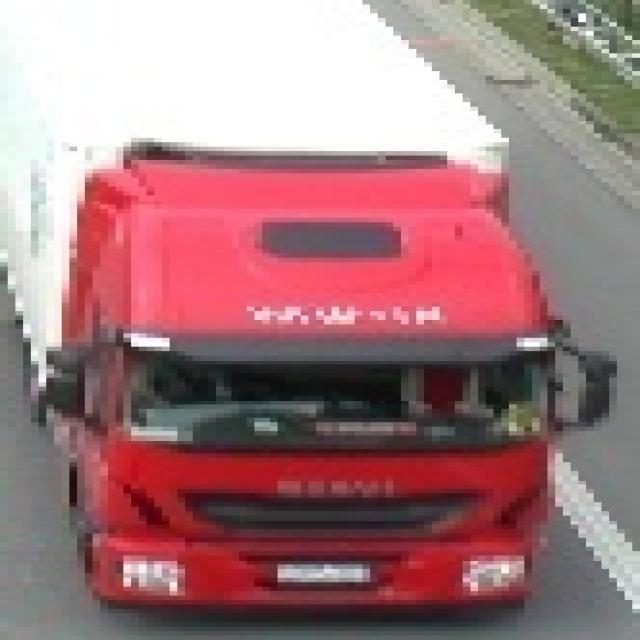TRUCK: (1, 4, 610, 622)
